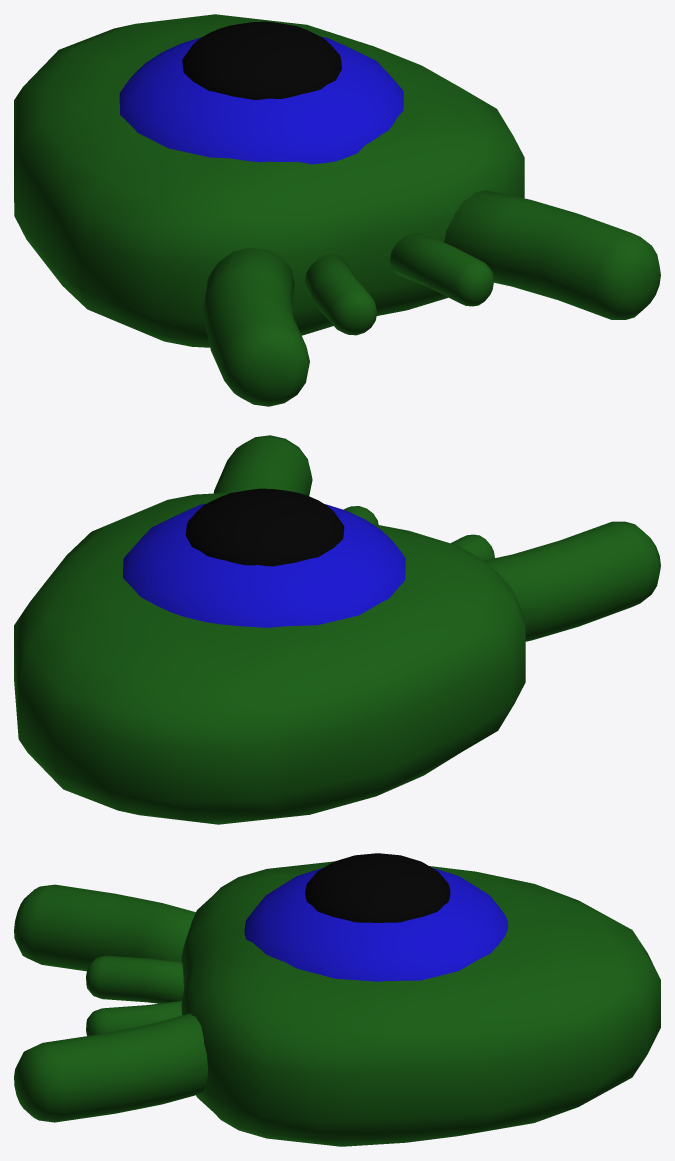
Rendered from amigo.glb.
The picture shows the model from 3 angles, top to bottom: view 1: azimuth 30°, elevation 25°; view 2: azimuth 150°, elevation 25°; view 3: azimuth 270°, elevation 25°; orthographic projection. The views are drawn at different scales.
Visible parts, largest first — view 1: Sphere; view 2: Sphere; view 3: Sphere.
Part boxes in pixels (<box>): Sphere: <box>14,14,660,406</box>; Sphere: <box>14,435,660,824</box>; Sphere: <box>14,853,660,1146</box>.
Bounding box in the file's own units: 2.29 × 1.22 × 3.28.
